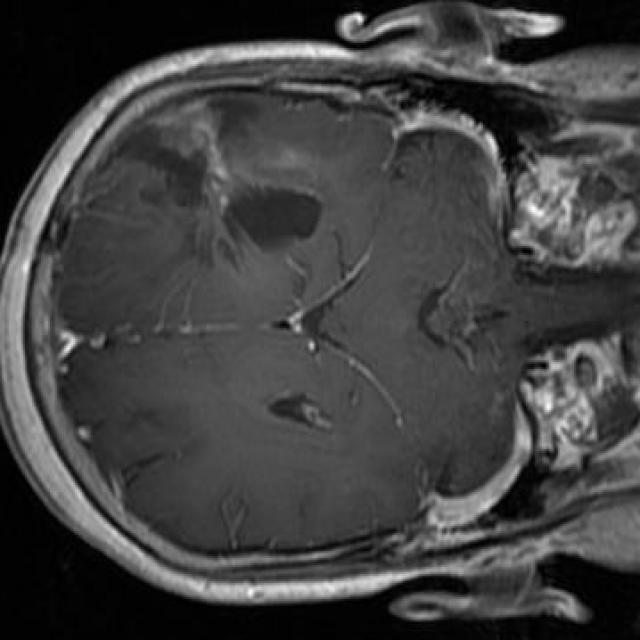glioma: (82, 98, 323, 271)
